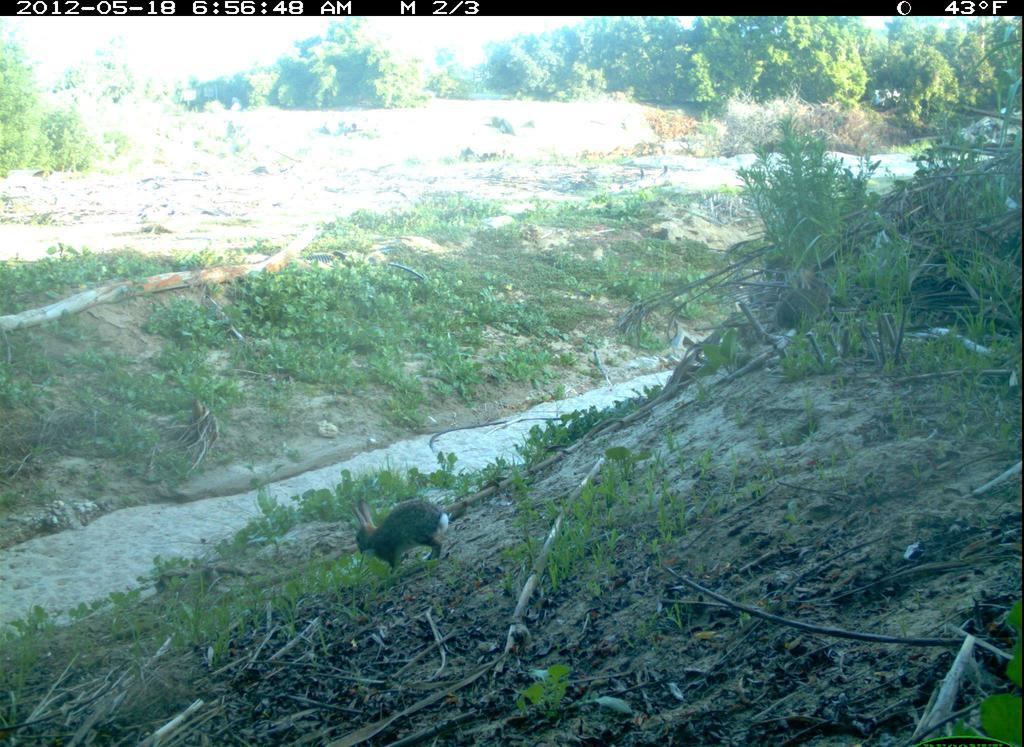rabbit: (335, 486, 457, 578)
